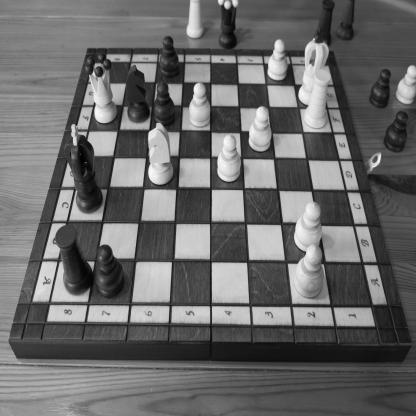black-bishop: (335, 0, 356, 41)
black-king: (64, 124, 104, 214)
black-knight: (126, 64, 150, 124)
black-pawn: (94, 243, 126, 299), (383, 110, 408, 153), (159, 35, 180, 78), (369, 68, 391, 109)
black-queen: (217, 0, 239, 50)
black-rook: (55, 223, 94, 296), (315, 0, 336, 48)
white-king: (298, 25, 329, 106)
white-knight: (148, 122, 174, 186)
white-pawn: (294, 243, 324, 299), (294, 201, 323, 252), (217, 134, 242, 183), (152, 80, 176, 126), (188, 82, 212, 128), (249, 106, 272, 152), (267, 38, 288, 81), (395, 63, 415, 107), (395, 64, 415, 106)
white-queen: (84, 52, 118, 124)
white-rook: (303, 69, 332, 129), (186, 0, 204, 39)
